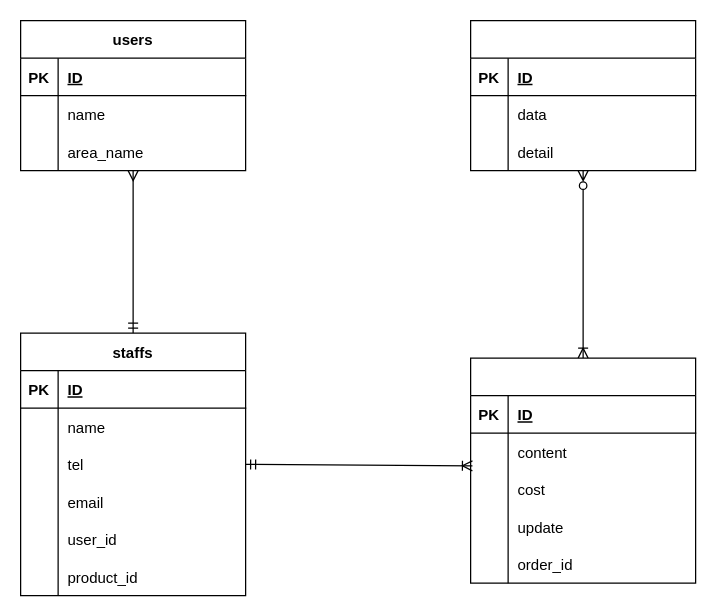
Some shapes in this 716 by 616 pixel diagram are drawn without their labels. Here are the shapes that lost their labels. From the top down, the box of each, then its label:
(469, 19, 696, 171): orders
(469, 357, 696, 583): products
